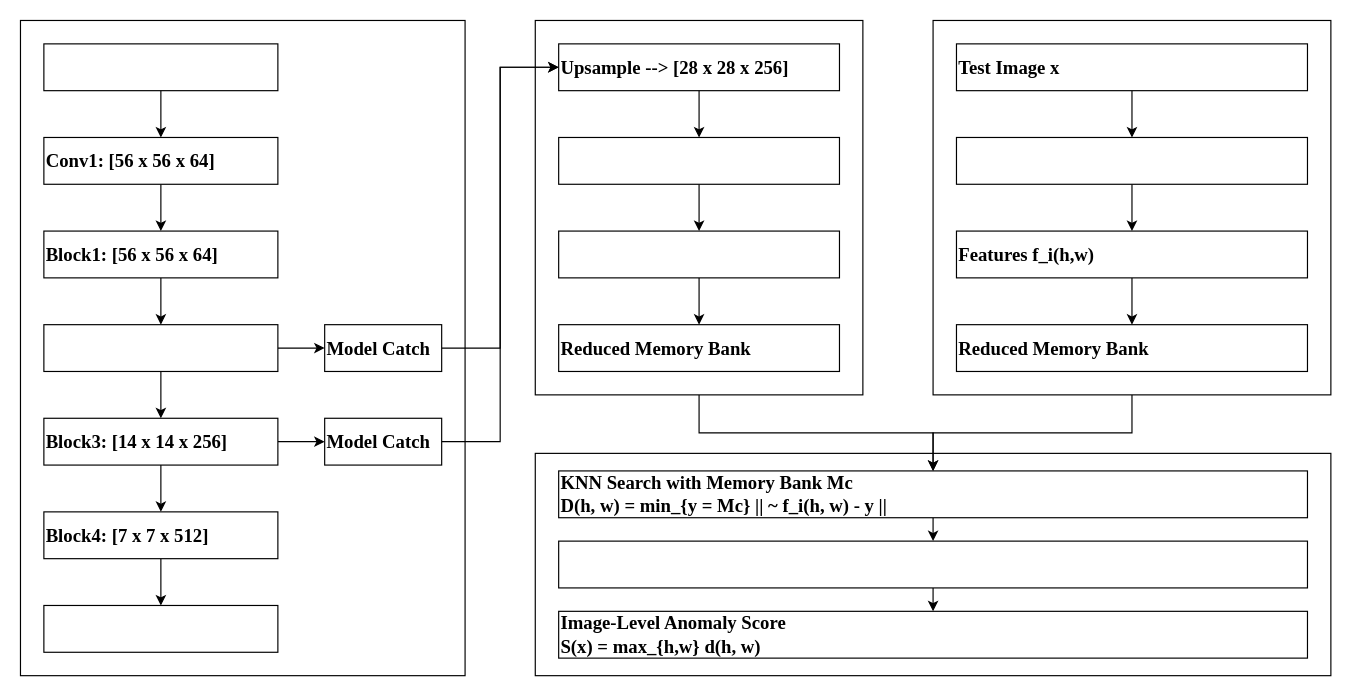
The diagram is 1351 pixels wide and 696 high, and some of its shapes have lost their labels. Each missing label, with the centre of its shape:
Anomaly Heatmap per-patch score = d(h,w): (932,564)
Block2: [28 x 28 x 128]: (160,347)
Coreset Subsampling: (698,254)
Global AvgPool [1 x 1 x 512]: (160,628)
Input (224 * 224 * 3): (160,67)
Memory Bank M: (698,160)
Pretrained ResNet Encoder Block2 C2 = 128, Block 3: C3 = 256: (1131,160)
